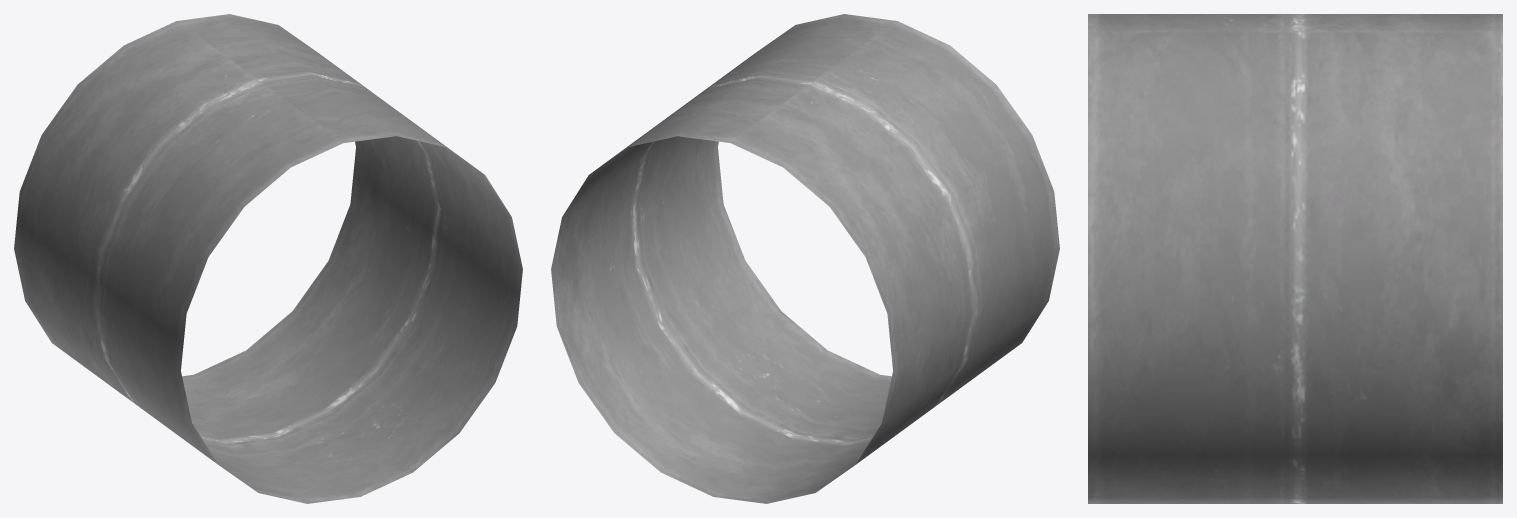
The model's file is SM_Air_Vent_01h.glb.
3 views of the same model, side by side, from view 1: azimuth 30°, elevation 25°; view 2: azimuth 150°, elevation 25°; view 3: azimuth 270°, elevation 25° (orthographic). The views are drawn at different scales.
Parts seen in each view (by area): view 1: SM_Air_Vent_01h; view 2: SM_Air_Vent_01h; view 3: SM_Air_Vent_01h.
Boxes of the visible parts, x1,y1,x2,y2 form: SM_Air_Vent_01h: [14, 14, 522, 503]; SM_Air_Vent_01h: [551, 14, 1059, 503]; SM_Air_Vent_01h: [1088, 14, 1502, 503].
Bounding box in the file's own units: 0.5916 × 0.5916 × 0.5.
Materials: 1 (1 with a texture image).
